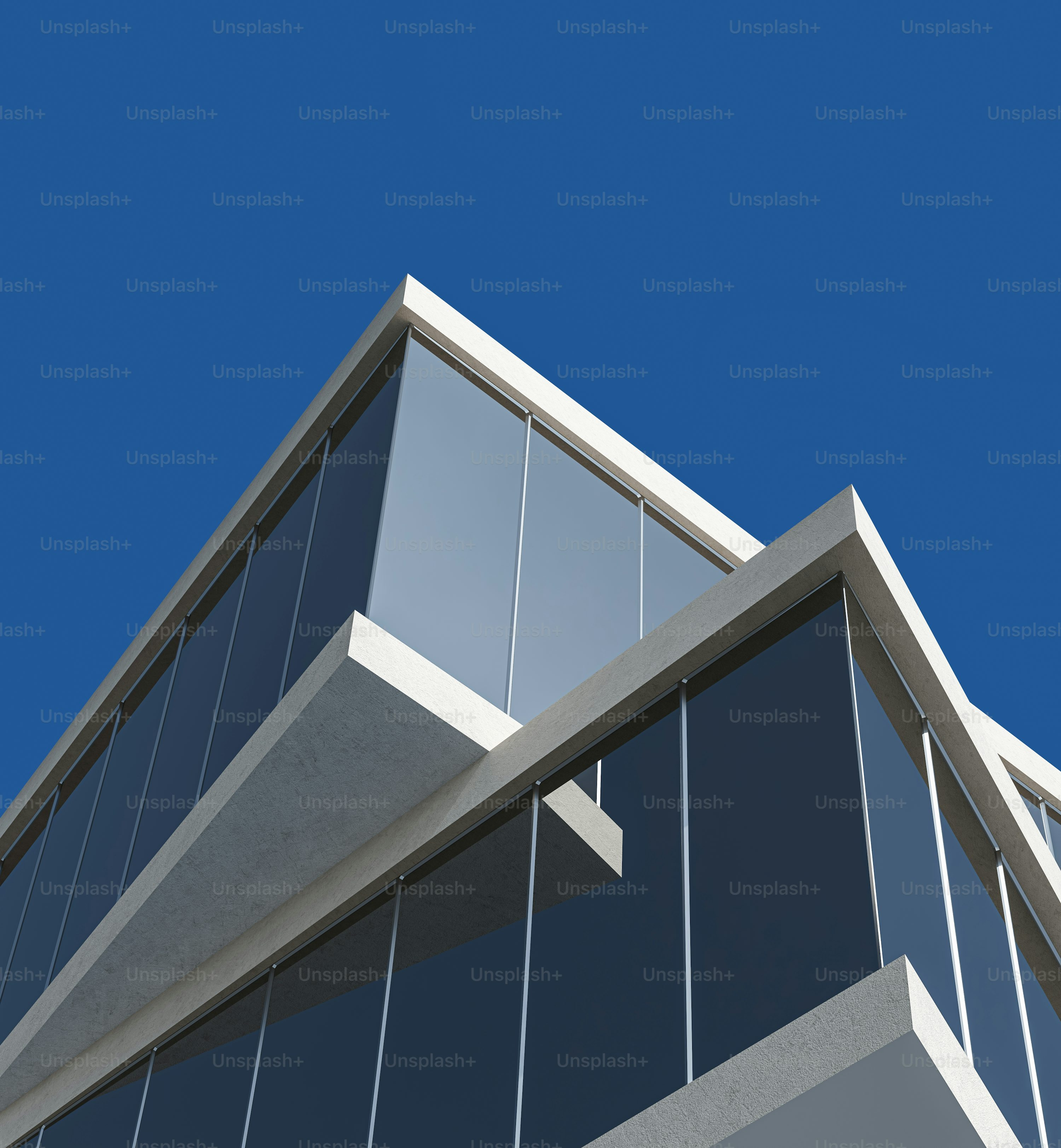glass_panel: (687, 580, 879, 1075), (521, 691, 685, 1148), (520, 716, 685, 1148), (370, 336, 524, 707), (374, 799, 532, 1148), (847, 593, 962, 1042), (933, 741, 1037, 1144), (201, 449, 321, 794), (286, 340, 404, 688), (126, 546, 245, 886), (57, 635, 178, 967), (512, 423, 640, 722), (247, 895, 394, 1148), (0, 723, 110, 1038), (137, 979, 266, 1148), (1007, 874, 1061, 1145), (643, 504, 725, 634), (0, 794, 53, 981), (40, 1058, 148, 1148), (1014, 779, 1048, 843), (1047, 805, 1061, 859)
